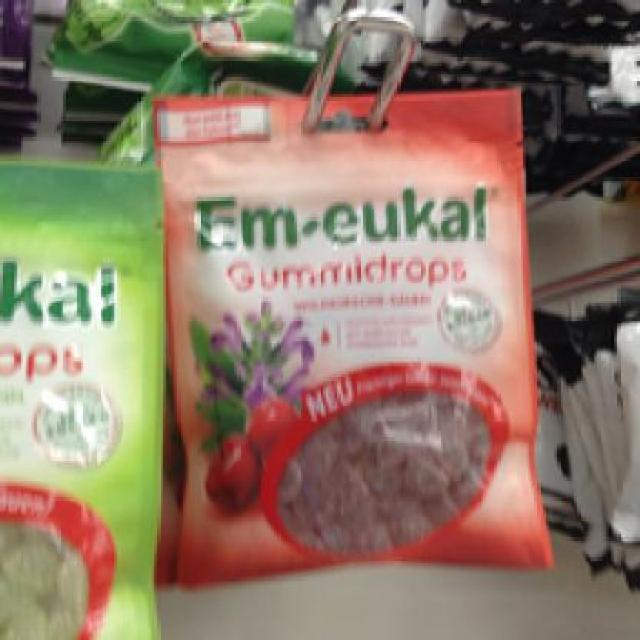Candy: (146, 89, 554, 566), (0, 153, 197, 630)
